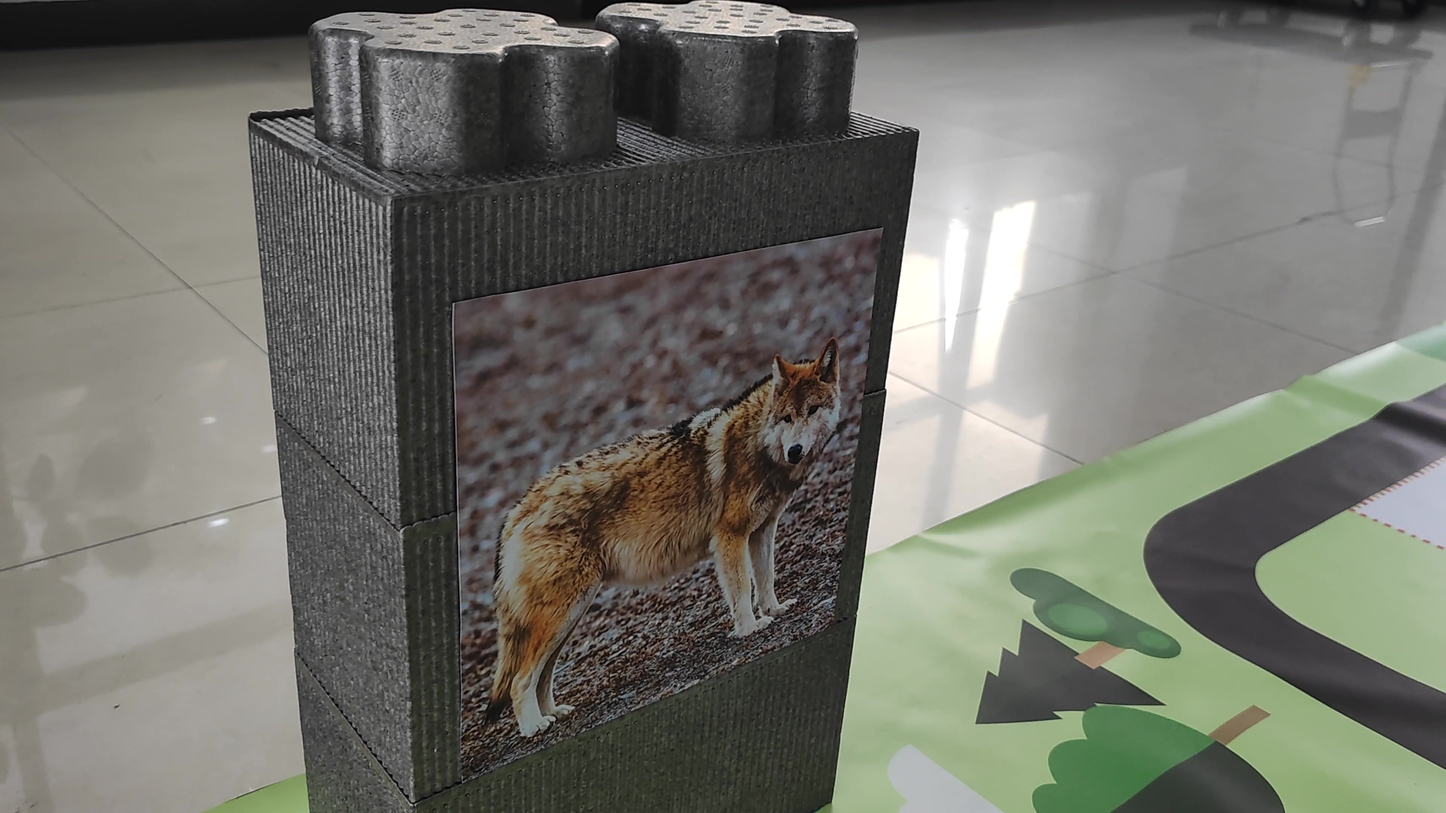wolf: (470, 257, 848, 705)
